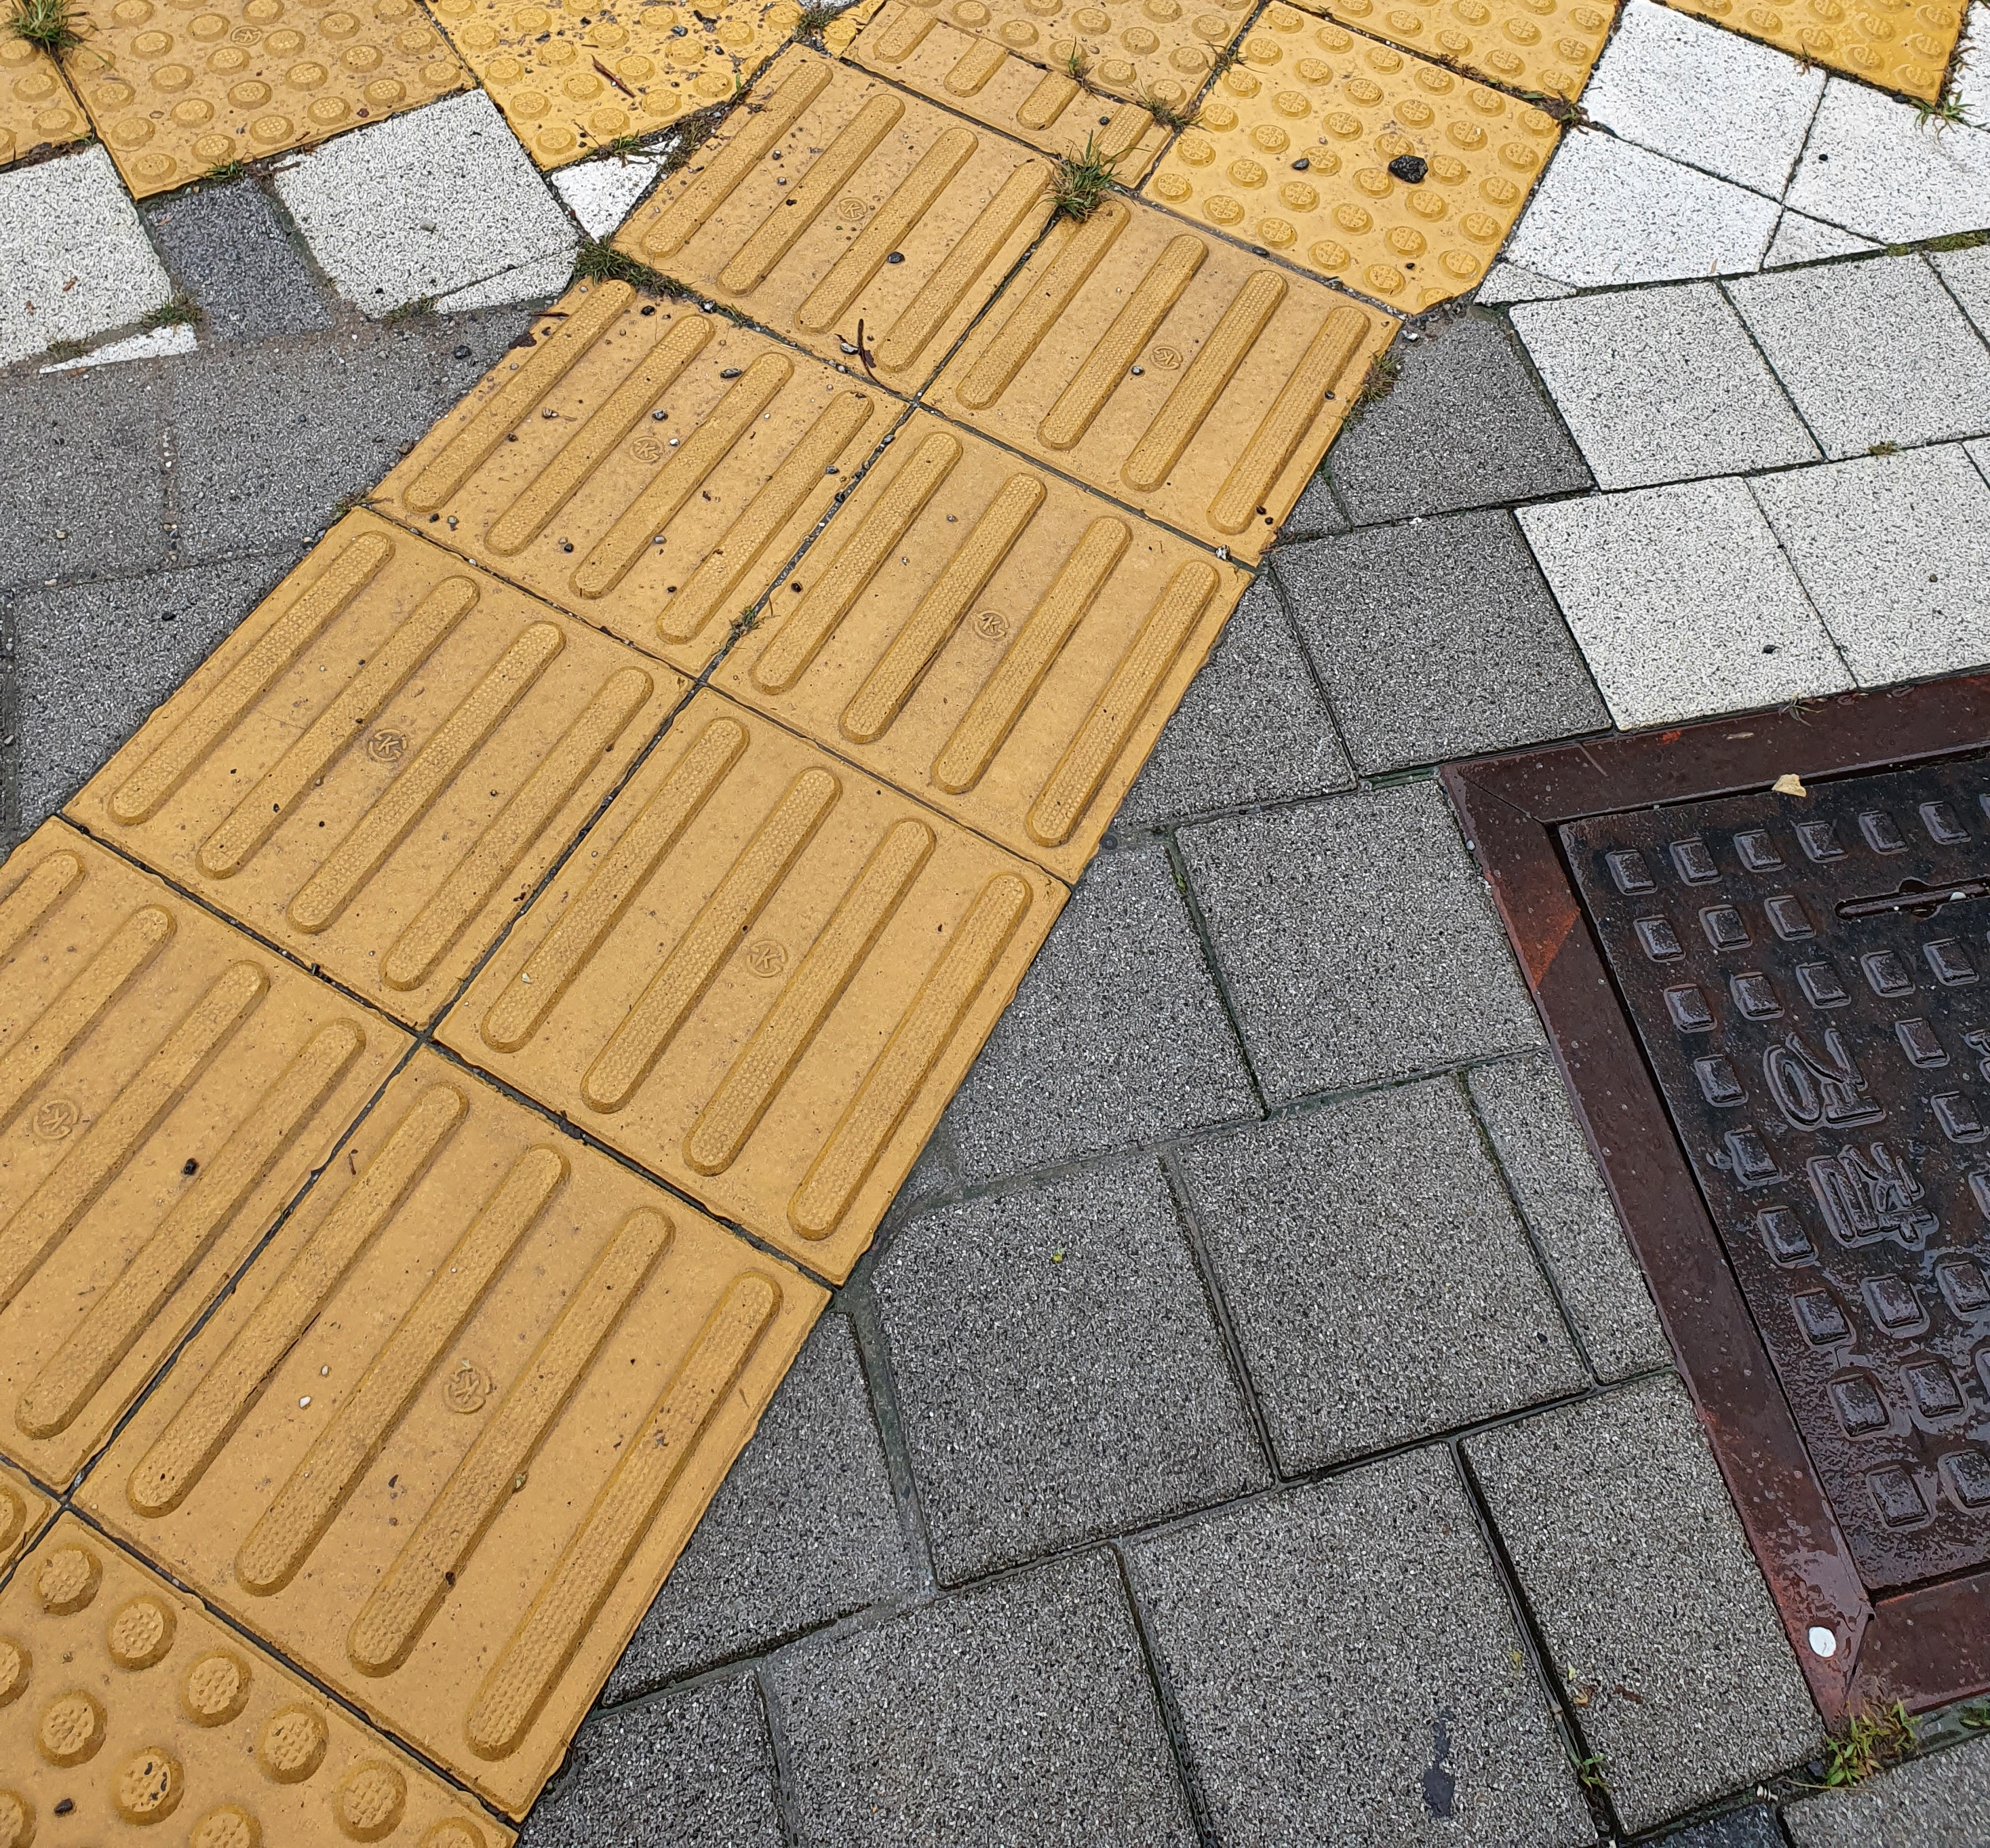guideBlock: (149, 1235, 754, 1643), (163, 525, 557, 959), (511, 759, 932, 1158), (483, 309, 908, 698), (12, 856, 379, 1304), (738, 438, 1184, 799), (957, 151, 1344, 514), (682, 78, 1078, 405)
warningBlock: (1231, 12, 1566, 306)
